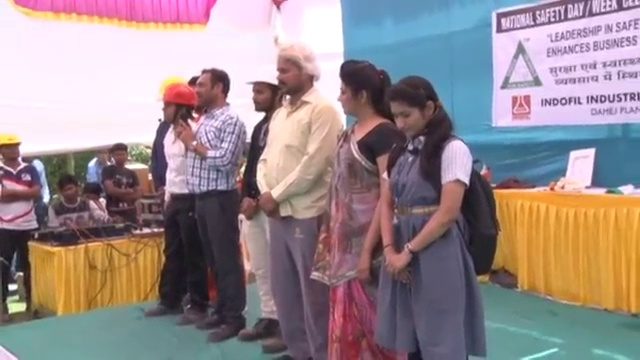helmet: (156, 79, 197, 106), (243, 60, 279, 86), (0, 131, 22, 147)
helmet_off: (385, 73, 444, 145), (334, 60, 389, 125), (271, 44, 320, 99), (192, 68, 230, 117), (56, 174, 79, 203), (83, 182, 103, 206), (110, 145, 129, 168), (95, 148, 110, 163)
helmet_on: (241, 61, 280, 116), (156, 80, 197, 126), (0, 132, 22, 169)
person: (379, 69, 502, 360), (251, 49, 347, 360), (332, 56, 398, 360), (176, 67, 248, 343), (235, 56, 292, 358), (148, 77, 213, 327), (0, 132, 42, 320), (48, 173, 112, 233), (101, 145, 143, 217), (84, 148, 109, 183)
